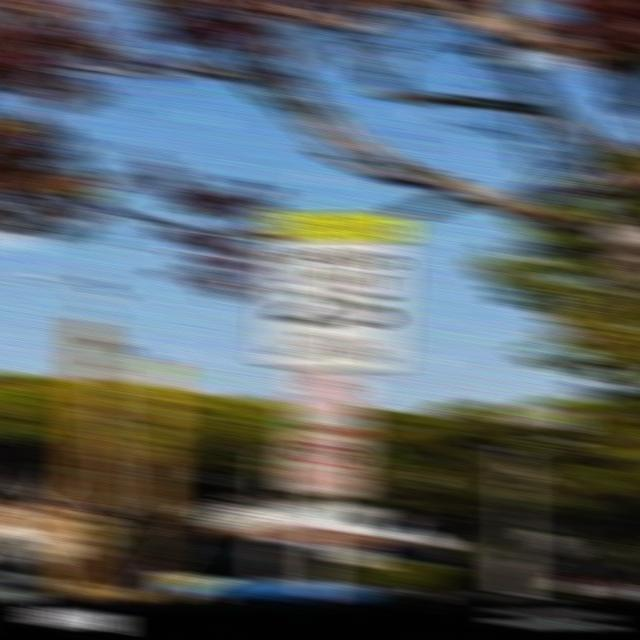speedLimit25: (259, 237, 403, 331)
